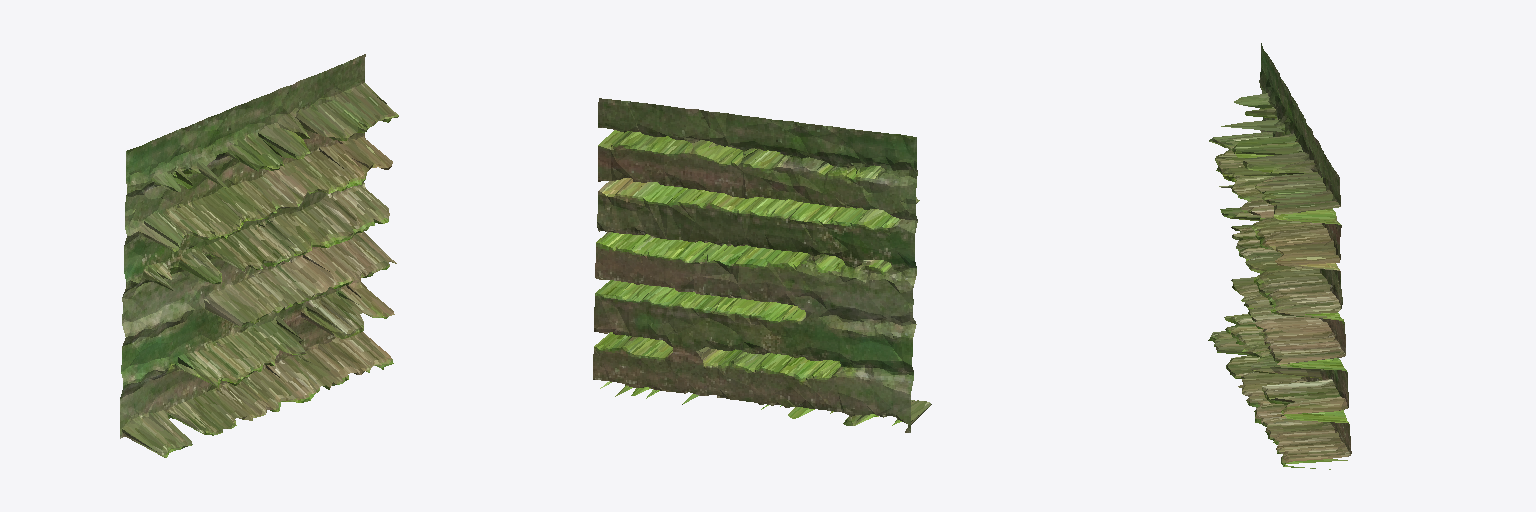
The picture shows the model from 3 angles: view 1: azimuth 30°, elevation 25°; view 2: azimuth 150°, elevation 25°; view 3: azimuth 270°, elevation 25°; orthographic projection.
Parts seen in each view (by area): view 1: grp1; view 2: grp1; view 3: grp1.
Part boxes in pixels (x1,y1,x2,y2): grp1: (120,54,398,457); grp1: (593,98,931,432); grp1: (1208,43,1351,469).
Size of the model in its own units: 10 by 10 by 4.45.
1 materials, 1 textured.